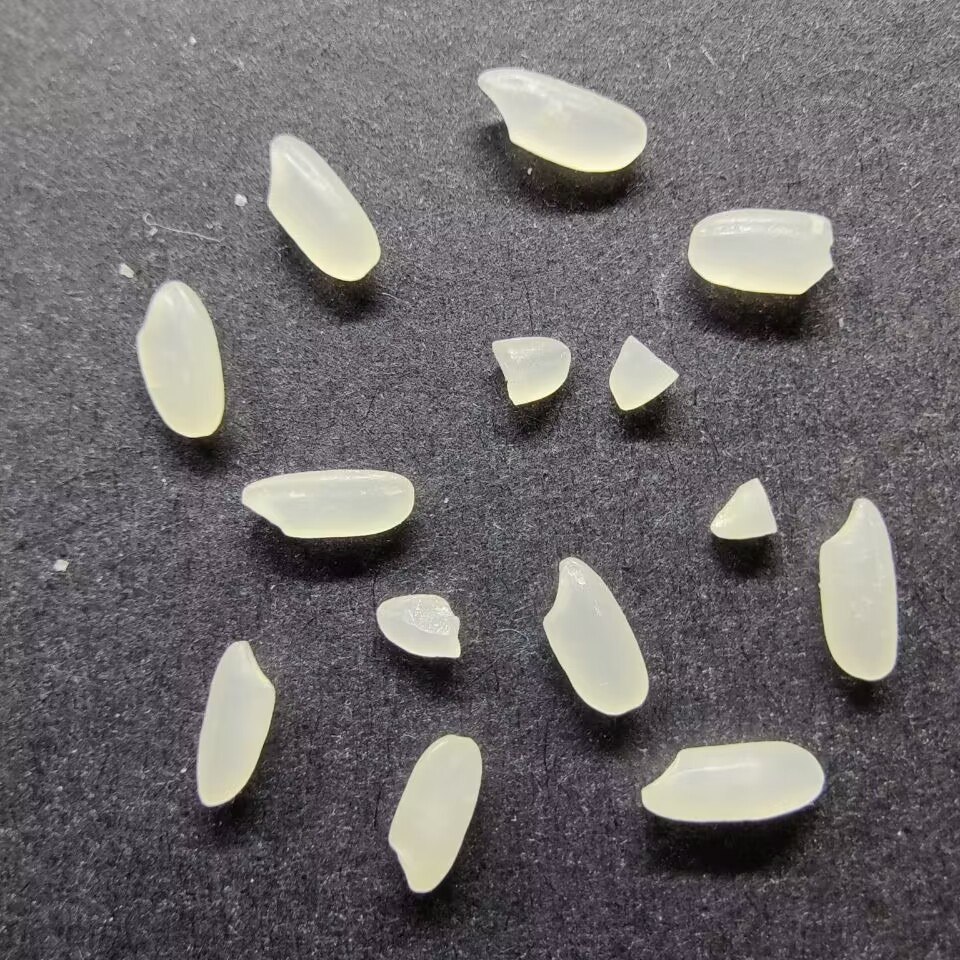broken: (604, 334, 681, 412), (489, 335, 572, 407), (374, 592, 462, 659), (705, 476, 780, 541)
rice: (474, 64, 648, 174), (265, 129, 382, 283), (540, 556, 649, 717), (385, 732, 483, 895), (639, 740, 824, 824), (817, 492, 898, 683), (133, 278, 227, 439), (193, 638, 276, 808), (687, 207, 835, 296), (240, 467, 414, 539)
